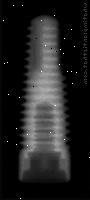Keystone Dental: (16, 12, 80, 186)
